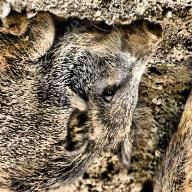boar: (0, 12, 170, 192)
